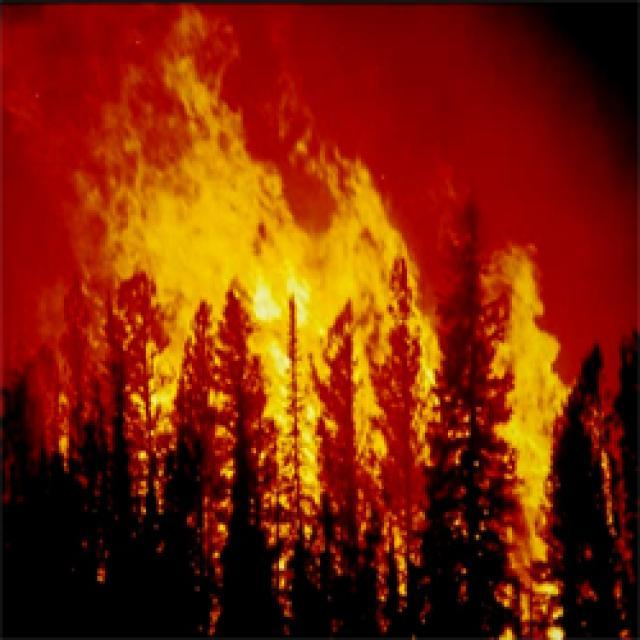Fire: (156, 132, 446, 497), (102, 46, 308, 319), (476, 224, 604, 546), (41, 332, 204, 524), (468, 545, 588, 640)
Smoke: (363, 0, 640, 245), (0, 0, 147, 222)
